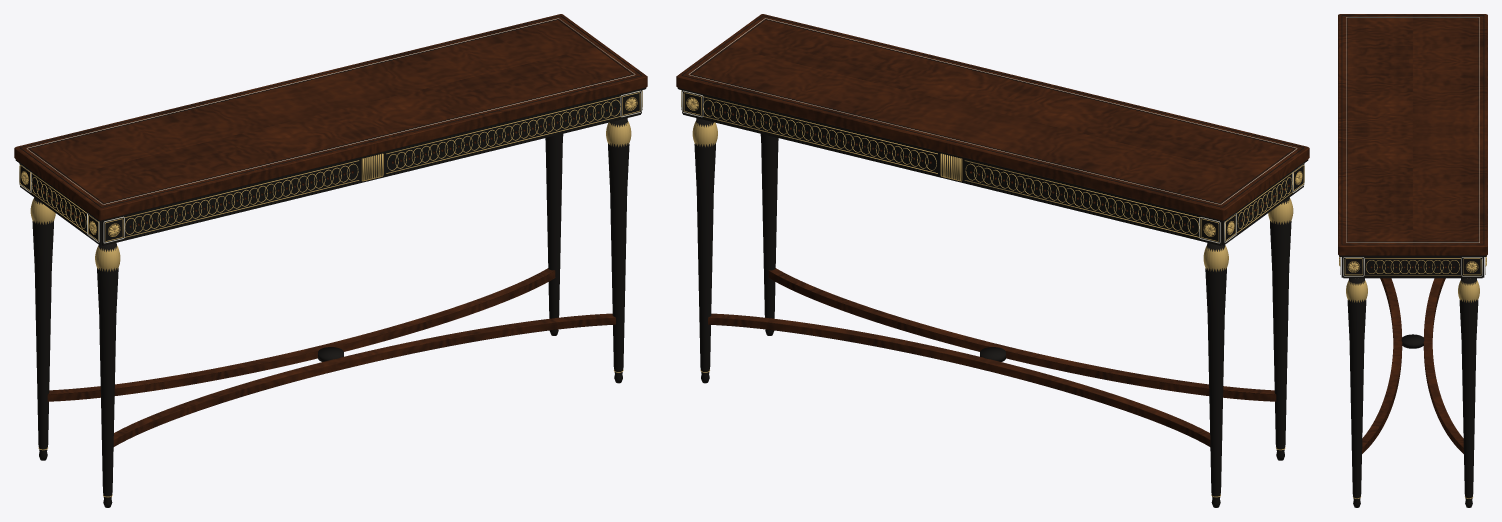
3 renders of one model, left to right at view 1: azimuth 30°, elevation 25°; view 2: azimuth 150°, elevation 25°; view 3: azimuth 270°, elevation 25°, orthographic. The views are drawn at different scales.
Parts seen in each view (by area): view 1: Nantes console with curved low stretcher | dining-24 web bat; view 2: Nantes console with curved low stretcher | dining-24 web bat; view 3: Nantes console with curved low stretcher | dining-24 web bat.
Boxes of the visible parts, x1=… form: Nantes console with curved low stretcher | dining-24 web bat: x1=14, y1=14, x2=647, y2=507; Nantes console with curved low stretcher | dining-24 web bat: x1=676, y1=14, x2=1309, y2=507; Nantes console with curved low stretcher | dining-24 web bat: x1=1338, y1=14, x2=1487, y2=507.
Bounding box in the file's own units: 1.69 × 0.9112 × 0.46.
Materials: 6 (1 with a texture image).
